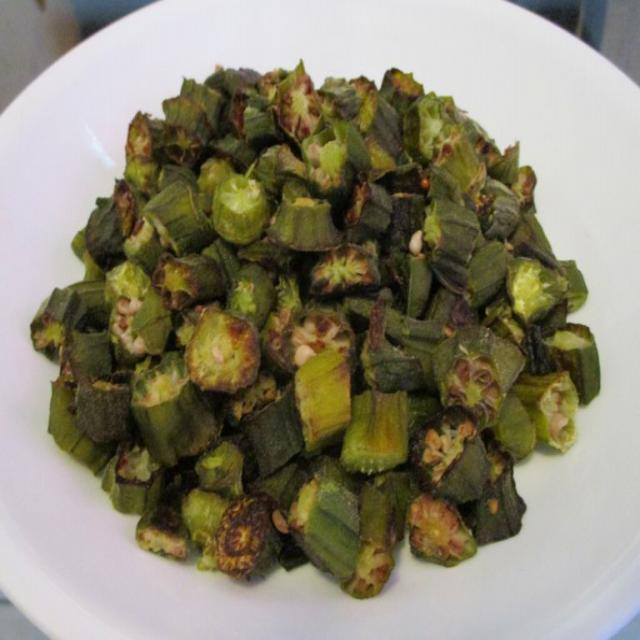BhindiMasala: (32, 63, 602, 599)
